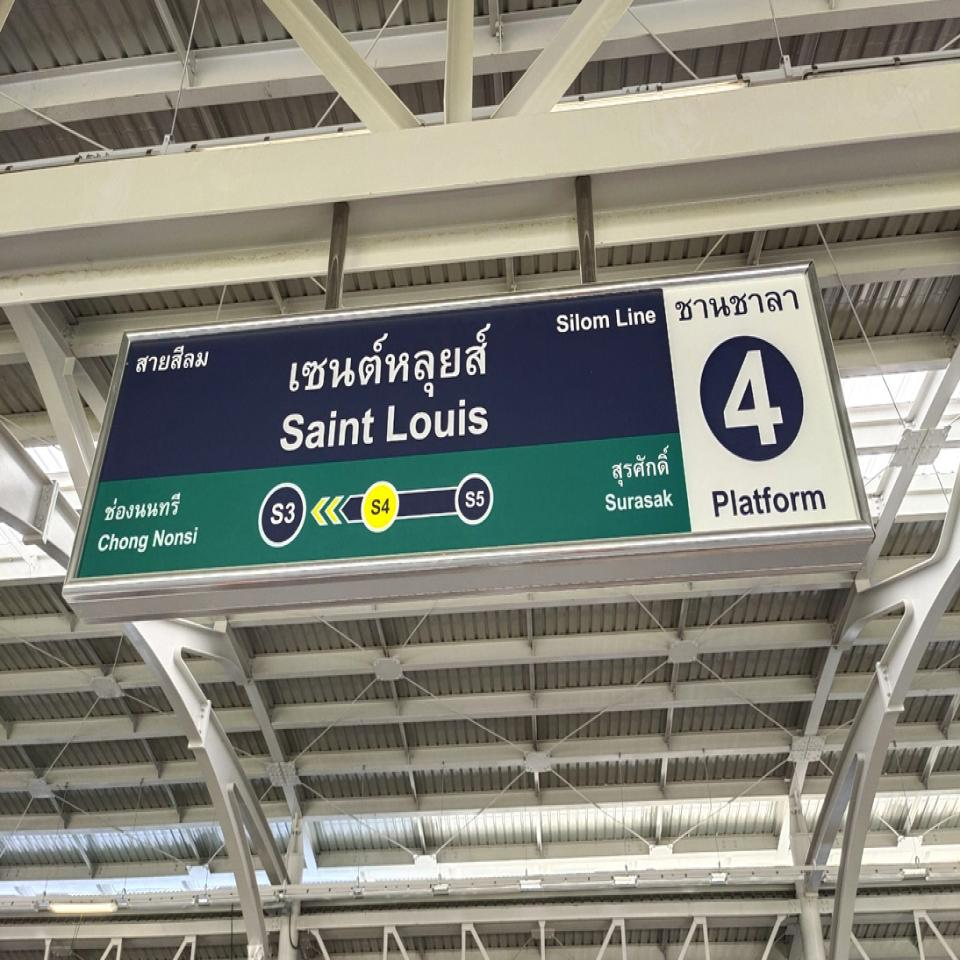Saint Louis: (257, 295, 496, 581)
